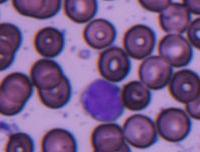L: (82, 79, 124, 121)
